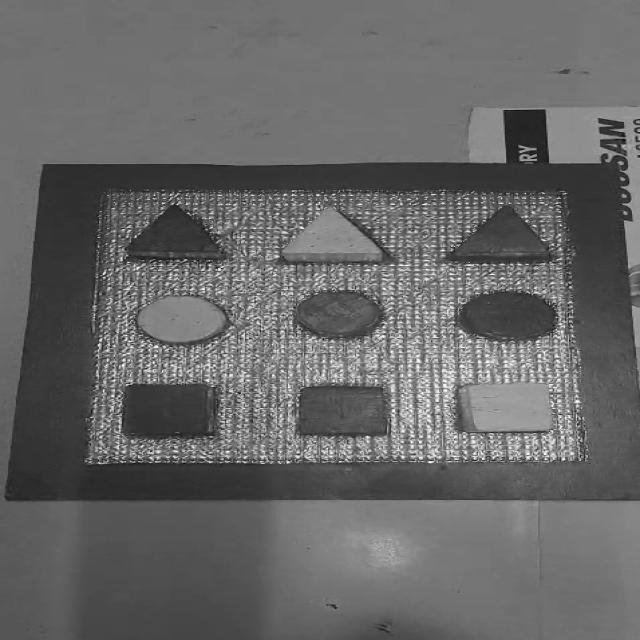bcircle: (442, 292, 560, 344)
bcube: (295, 379, 397, 443)
btriangle: (122, 202, 228, 267)
rcircle: (290, 290, 391, 344)
rcube: (120, 378, 222, 441)
rtriangle: (444, 202, 558, 264)
wb: (91, 189, 574, 464)
ycircle: (126, 288, 232, 349)
ycube: (437, 378, 565, 440)
ytriangle: (276, 204, 403, 264)
